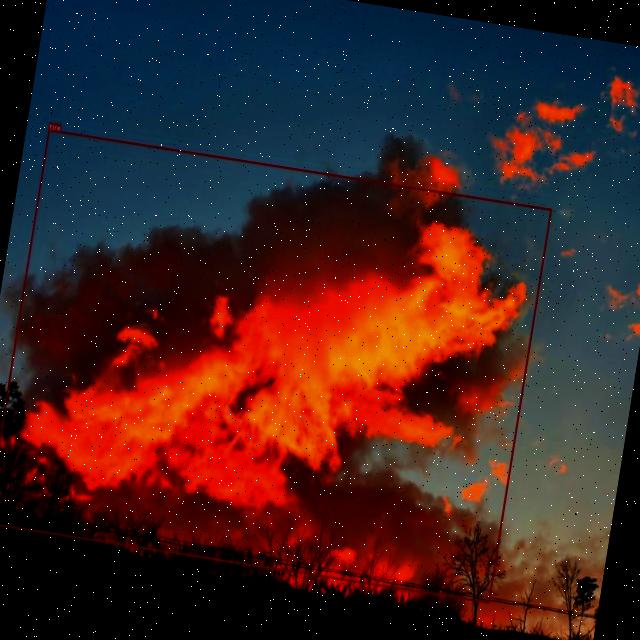fire: (0, 128, 551, 603)
